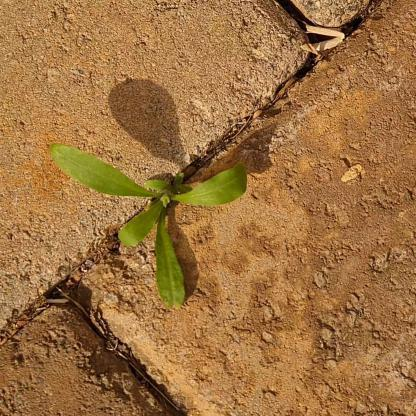Weeds: (50, 140, 247, 313)
